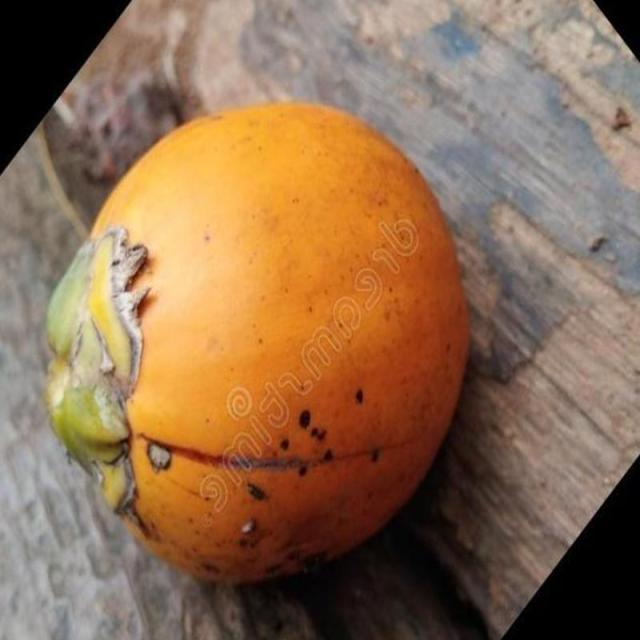good: (42, 101, 472, 590)
